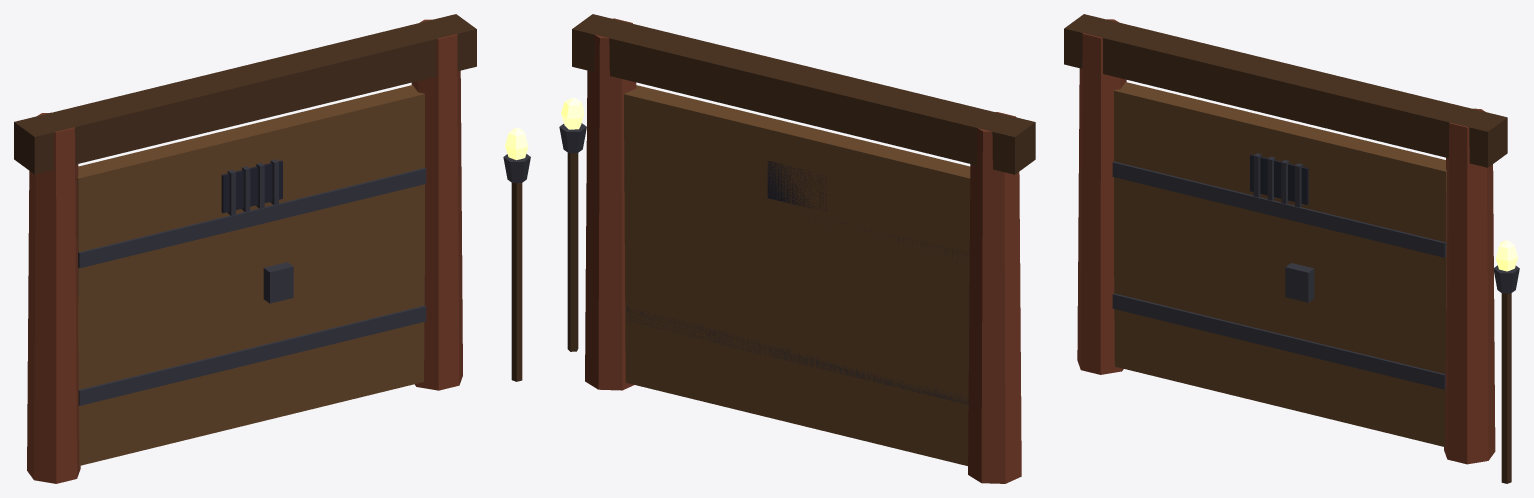
The model's file is prop_prison_gate.glb.
3 views of the same model, side by side, from view 1: azimuth 30°, elevation 25°; view 2: azimuth 150°, elevation 25°; view 3: azimuth 330°, elevation 25° (orthographic). The views are drawn at different scales.
Visible parts, largest first — view 1: prop_prison_gate; view 2: prop_prison_gate; view 3: prop_prison_gate.
Part boxes in pixels (x1,y1,x2,y2): prop_prison_gate: (14,14,530,483); prop_prison_gate: (559,14,1035,483); prop_prison_gate: (1064,14,1519,483).
Bounding box in the file's own units: 4.04 × 2.8 × 0.6.
